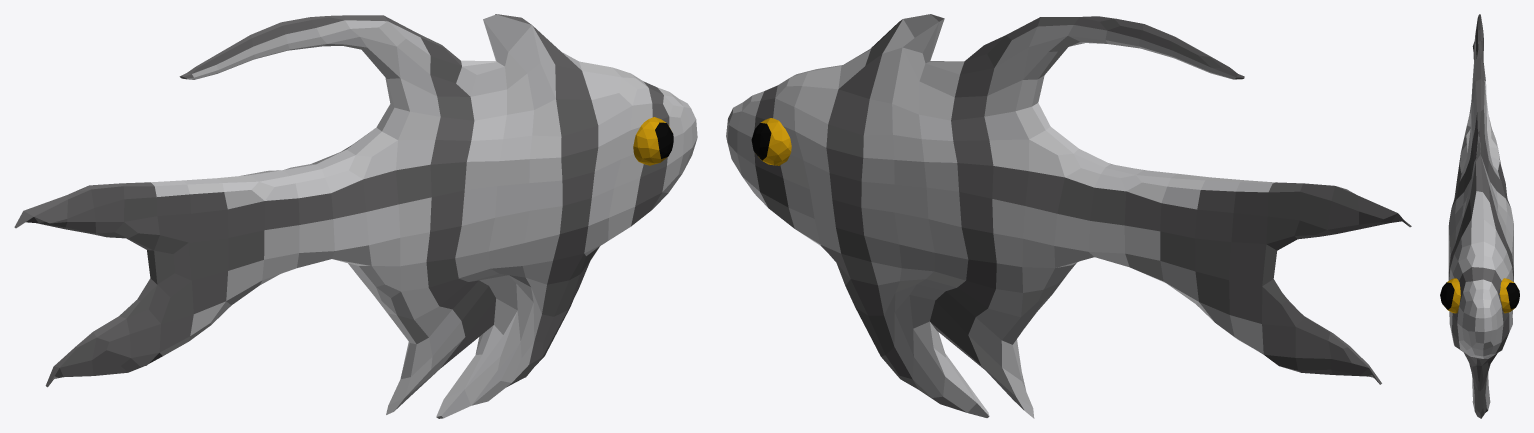
The model's file is BANGGAI CARDINALFISH.fbx.
3 renders of one model, left to right at view 1: azimuth 30°, elevation 25°; view 2: azimuth 150°, elevation 25°; view 3: azimuth 270°, elevation 25°, orthographic. The views are drawn at different scales.
Visible parts, largest first — view 1: Sphere.005; view 2: Sphere.005; view 3: Sphere.005.
Boxes of the visible parts, box(x1,y1,x2,y2) form: Sphere.005: box(14, 14, 697, 418); Sphere.005: box(726, 14, 1411, 418); Sphere.005: box(1440, 14, 1519, 418).
Size of the model in its own units: 6.39 by 3.88 by 0.8865.
